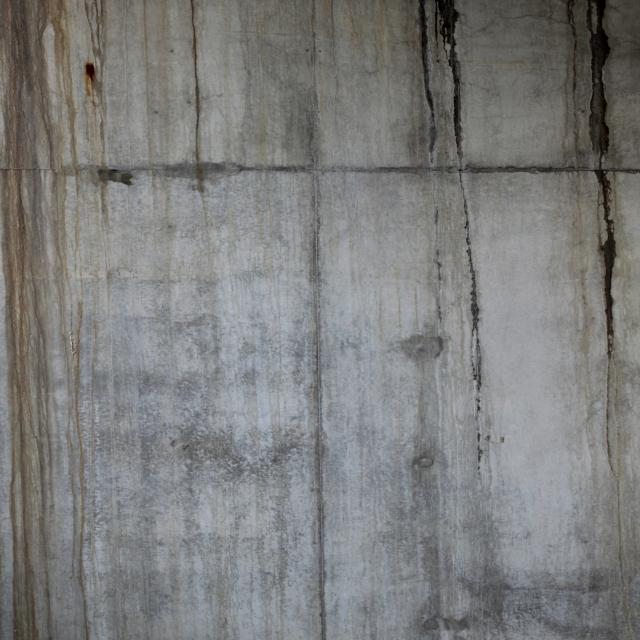corrosion: (0, 0, 217, 640), (539, 4, 640, 640)
